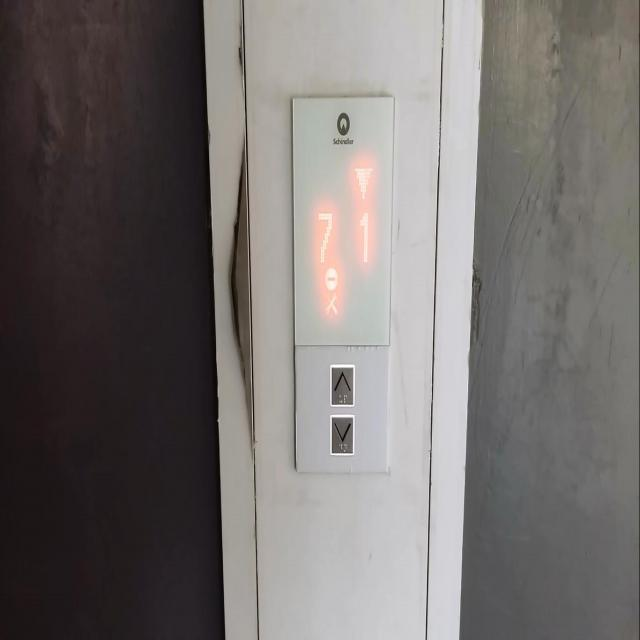down: (329, 411, 356, 457)
led: (289, 90, 396, 349)
up: (328, 360, 356, 410)
